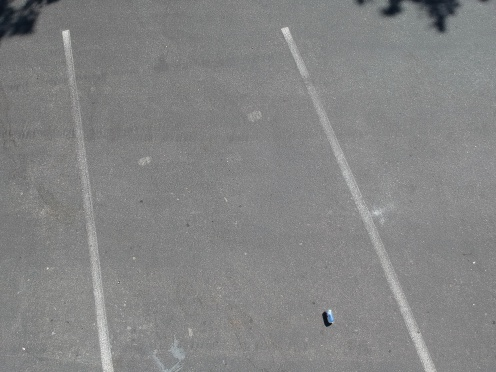can: (322, 306, 341, 329)
